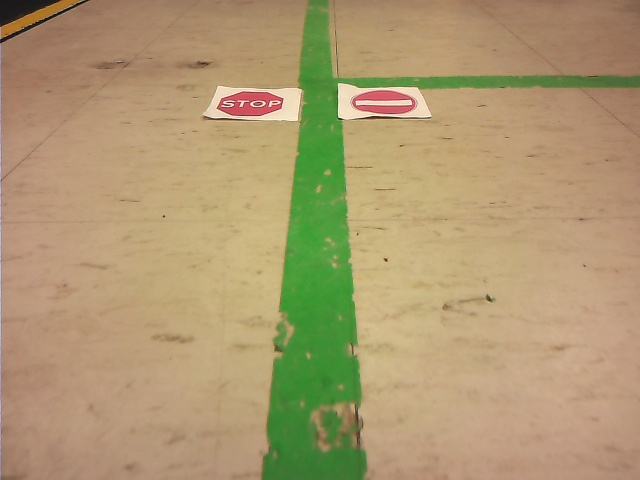NO ENTRY: (352, 89, 416, 114)
STOP: (216, 91, 283, 115)
